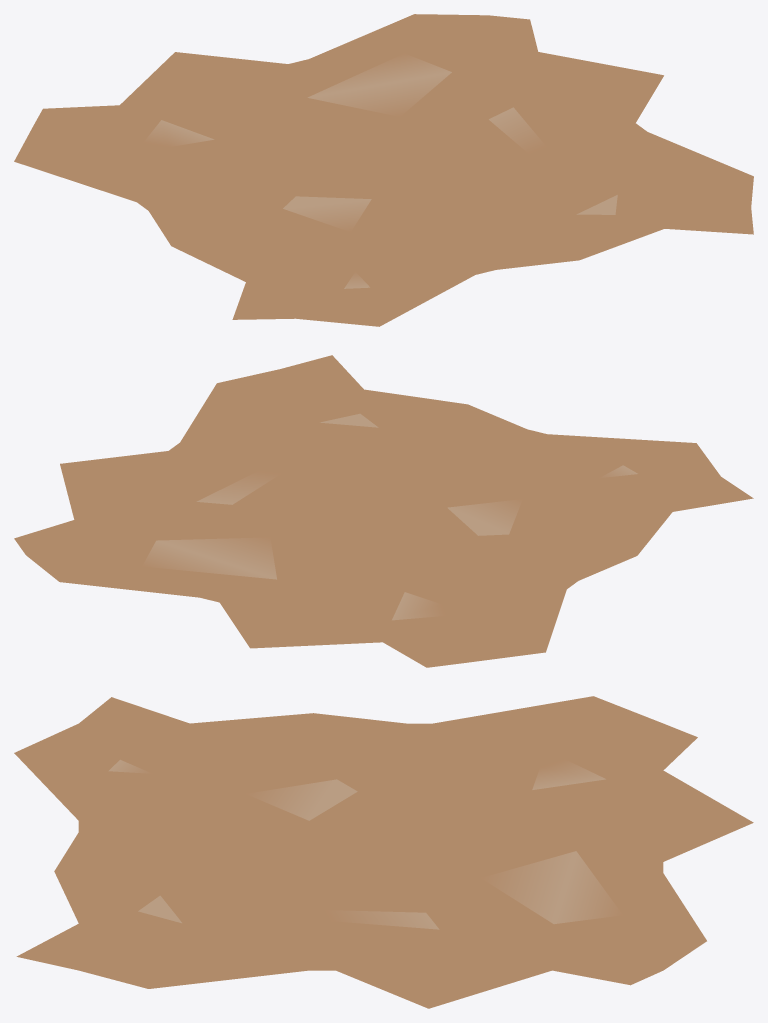
The model's file is road-tile-path.fbx.
3 views of the same model, one above another, from view 1: azimuth 30°, elevation 25°; view 2: azimuth 150°, elevation 25°; view 3: azimuth 270°, elevation 25° (orthographic). The views are drawn at different scales.
Parts seen in each view (by area): view 1: edge_ground_grass.003; view 2: edge_ground_grass.003; view 3: edge_ground_grass.003.
Boxes of the visible parts, x1=… form: edge_ground_grass.003: x1=14, y1=14, x2=753, y2=326; edge_ground_grass.003: x1=14, y1=355, x2=753, y2=667; edge_ground_grass.003: x1=14, y1=696, x2=753, y2=1008.
Bounding box in the file's own units: 127 × 4.39e-05 × 127.
